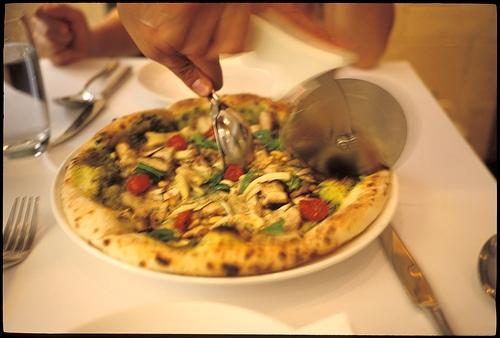tomato: (298, 198, 328, 222), (125, 174, 152, 196), (174, 210, 192, 232), (166, 134, 187, 151), (224, 164, 244, 181), (202, 128, 214, 138)
